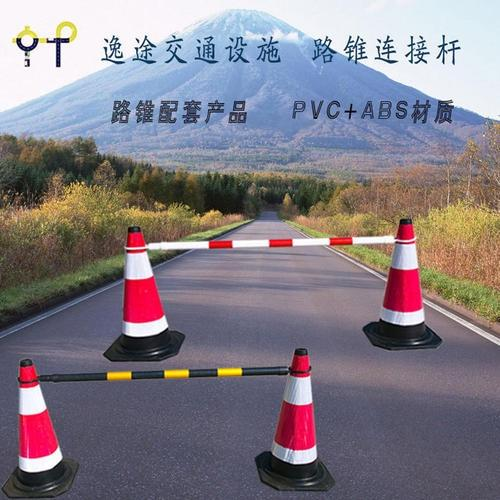cone_barrel: (254, 346, 332, 489), (104, 223, 181, 358), (5, 362, 76, 496), (366, 220, 437, 351)
